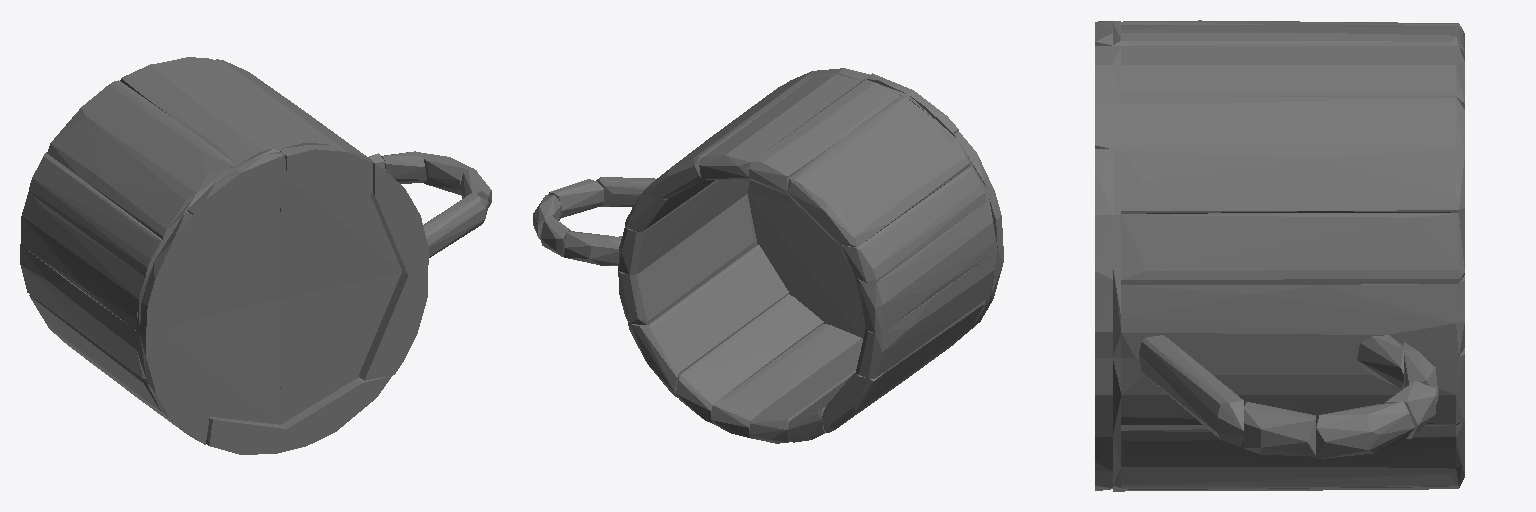
URDF robot description (base.urdf):
<?xml version='1.0' encoding='utf-8'?>
<robot name="base.urdf">
  <link name="baseLink">
    <contact>
      <lateral_friction value="0.5" />
      <rolling_friction value="0.0" />
      <contact_cfm value="0.0" />
      <contact_erp value="1.0" />
    </contact>
    <inertial>
      <origin rpy="0 0 0" xyz="-0.013059664641113407 -0.002708156725716621 1.2781728545920605e-05" />
       <mass value="0.3" />
       <inertia ixx="1e-3" ixy="0" ixz="0" iyy="1e-3" iyz="0" izz="1e-3" />
    </inertial>
    <visual>
      <origin rpy="0 0 0" xyz="0 0 0" />
      <geometry>
        <mesh filename="base.obj" scale="1.2 1.2 1.2" />
      </geometry>
       <material name="gray">
        <color rgba="0.5 0.5 0.5 1" />
      </material>
    </visual>
    <collision>
      <geometry>
        <mesh filename="base.obj" scale="1.2 1.2 1.2" />
      </geometry>
    </collision>
  </link>
</robot>

--- What the picture shows (computed from the rendered views, not written in the file) ---
The picture shows the robot from 3 angles, left to right: view 1: azimuth 30°, elevation 25°; view 2: azimuth 150°, elevation 25°; view 3: azimuth 270°, elevation 25°; orthographic projection.
Robot: base.urdf — 1 links, 0 joints (none); root link baseLink; default pose: all joints at 0.
Visible links, largest first — view 1: baseLink; view 2: baseLink; view 3: baseLink.
Boxes of the visible links, x1=… form: baseLink: x1=20, y1=57, x2=491, y2=454; baseLink: x1=533, y1=68, x2=1003, y2=443; baseLink: x1=1095, y1=20, x2=1464, y2=491.
Size in the robot's own frame: 0.1205 by 0.0657 by 0.0833 metres.
1 mesh visuals loaded from 1 distinct referenced files (1 OBJ).